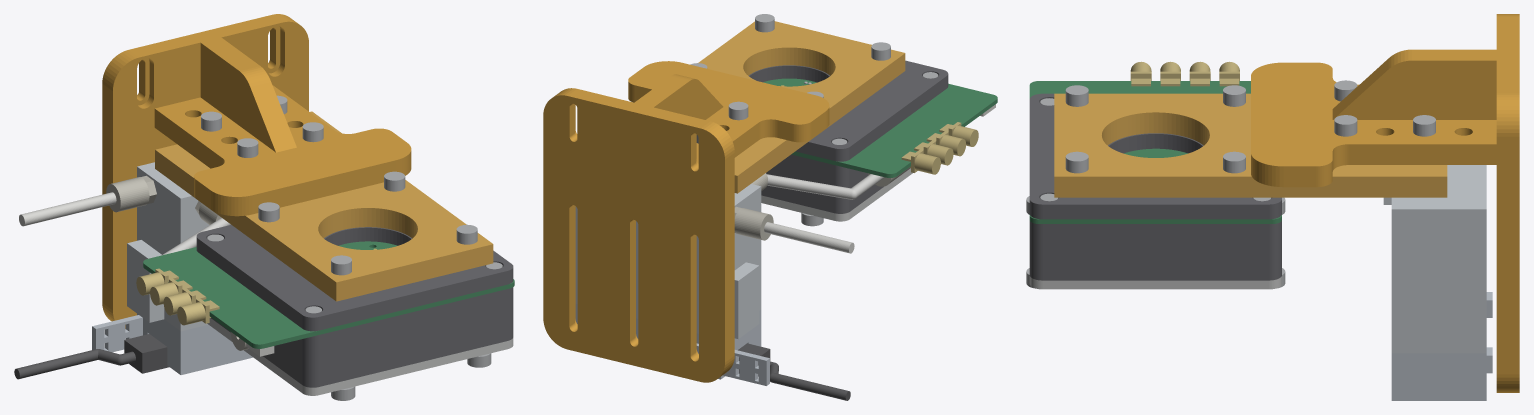
Rendered from v62_min.glb.
3 views of the same model, side by side, from view 1: azimuth 30°, elevation 25°; view 2: azimuth 150°, elevation 25°; view 3: azimuth 270°, elevation 25° (orthographic). The views are drawn at different scales.
Visible parts, largest first — view 1: Grace 2025 앵글 브래킷 "angle bracket for Ramen holder.STEP" (형상 , Grace 새 세로판 60x120x7 (재출력, 레진 가정), Ø4.5 x4 48x48, Ø33, 배기 블록, 셀 몸체 v6.2 Al 6061 흑색 아노다이징 80x77x19 R4 (공동 69x62 깊이 9, 바닥 평평, 뒷판 V62 Al 6061 흑색 아노다이징 80x77x5 R4, M4 Ø4.5 x4, M3 카운터보어 x4,, 뒷면 PCB v6.2 표준 FR-4 1.6: 외곽 X −65…35 x Z ±38.5 R3, 창 Ø16, M4, [배기 블록 v2] 배기 센서 블록 본체 PETG 60x29x48.5 (가스 몸 17.5 + 센서 칸 31,, [배기 블록 v2] 덮개 PETG 60x29x16 (판 2 + Pico 트레이 14): Pico 보스 4, , [배기 블록 v2] USB 케이블 (노트북으로, 타이로 선반에 고정; 노트북은 허치 안 가능), 뚜껑 Al 6061 흑색 아노다이징 (마스킹 없음, 필름 접착면 포함): 판 80x77x3 (Y -12…-9, SMA 엣지 잭 x4 Samtec SMA-J-P-H-ST-EM1 J1–J4 (CH1–CH4; 최소 세트: J, M4x18 렌치볼트 x4 (Grace 판 7 + 뒷판 5 + PCB 1.6 → 몸체 M4 탭, 물림 4.4), M4x16 볼트 + 너트 x4 (판 아래 구멍 ↔ 브래킷 세움판) (+4 smaller); view 2: Grace 2025 앵글 브래킷 "angle bracket for Ramen holder.STEP" (형상 , Grace 새 세로판 60x120x7 (재출력, 레진 가정), Ø4.5 x4 48x48, Ø33, 배기 블록, 뒷판 V62 Al 6061 흑색 아노다이징 80x77x5 R4, M4 Ø4.5 x4, M3 카운터보어 x4,, 뒷면 PCB v6.2 표준 FR-4 1.6: 외곽 X −65…35 x Z ±38.5 R3, 창 Ø16, M4, [배기 블록 v2] 배기 센서 블록 본체 PETG 60x29x48.5 (가스 몸 17.5 + 센서 칸 31,, 셀 몸체 v6.2 Al 6061 흑색 아노다이징 80x77x19 R4 (공동 69x62 깊이 9, 바닥 평평, SMA 엣지 잭 x4 Samtec SMA-J-P-H-ST-EM1 J1–J4 (CH1–CH4; 최소 세트: J, [배기 블록 v2] 덮개 PETG 60x29x16 (판 2 + Pico 트레이 14): Pico 보스 4, , PU 관 Ø4 (셀 출구 엘보 → 배기 블록 v2 입구, 블록이 뒤로 6.6), [배기 블록 v2] USB 케이블 (노트북으로, 타이로 선반에 고정; 노트북은 허치 안 가능), 뚜껑 Al 6061 흑색 아노다이징 (마스킹 없음, 필름 접착면 포함): 판 80x77x3 (Y -12…-9, [배기 블록 v2] 배출 PU 관 Ø4 (토막만 그림, 실제 >= 300 mm) (+2 smaller); view 3: Grace 2025 앵글 브래킷 "angle bracket for Ramen holder.STEP" (형상 , Grace 새 세로판 60x120x7 (재출력, 레진 가정), Ø4.5 x4 48x48, Ø33, 배기 블록, [배기 블록 v2] 배기 센서 블록 본체 PETG 60x29x48.5 (가스 몸 17.5 + 센서 칸 31,, 셀 몸체 v6.2 Al 6061 흑색 아노다이징 80x77x19 R4 (공동 69x62 깊이 9, 바닥 평평, 뒷판 V62 Al 6061 흑색 아노다이징 80x77x5 R4, M4 Ø4.5 x4, M3 카운터보어 x4,, [배기 블록 v2] 덮개 PETG 60x29x16 (판 2 + Pico 트레이 14): Pico 보스 4, , 뒷면 PCB v6.2 표준 FR-4 1.6: 외곽 X −65…35 x Z ±38.5 R3, 창 Ø16, M4, 뚜껑 Al 6061 흑색 아노다이징 (마스킹 없음, 필름 접착면 포함): 판 80x77x3 (Y -12…-9, SMA 엣지 잭 x4 Samtec SMA-J-P-H-ST-EM1 J1–J4 (CH1–CH4; 최소 세트: J, M4x18 렌치볼트 x4 (Grace 판 7 + 뒷판 5 + PCB 1.6 → 몸체 M4 탭, 물림 4.4), M4x16 볼트 + 너트 x4 (판 아래 구멍 ↔ 브래킷 세움판).
Boxes of the visible parts, x1,y1,x2,y2 form: Grace 2025 앵글 브래킷 "angle bracket for Ramen holder.STEP" (형상 : (102,14,411,328); Grace 새 세로판 60x120x7 (재출력, 레진 가정), Ø4.5 x4 48x48, Ø33, 배기 블록: (155,111,493,301); 셀 몸체 v6.2 Al 6061 흑색 아노다이징 80x77x19 R4 (공동 69x62 깊이 9, 바닥 평평: (211,287,513,387); 뒷판 V62 Al 6061 흑색 아노다이징 80x77x5 R4, M4 Ø4.5 x4, M3 카운터보어 x4,: (196,224,513,331); 뒷면 PCB v6.2 표준 FR-4 1.6: 외곽 X −65…35 x Z ±38.5 R3, 창 Ø16, M4: (143,241,514,348); [배기 블록 v2] 배기 센서 블록 본체 PETG 60x29x48.5 (가스 몸 17.5 + 센서 칸 31,: (127,162,209,331); [배기 블록 v2] 덮개 PETG 60x29x16 (판 2 + Pico 트레이 14): Pico 보스 4, : (92,314,252,374); [배기 블록 v2] USB 케이블 (노트북으로, 타이로 선반에 고정; 노트북은 허치 안 가능): (14,334,169,379); 뚜껑 Al 6061 흑색 아노다이징 (마스킹 없음, 필름 접착면 포함): 판 80x77x3 (Y -12…-9: (207,318,513,395); SMA 엣지 잭 x4 Samtec SMA-J-P-H-ST-EM1 J1–J4 (CH1–CH4; 최소 세트: J: (136,268,219,325); M4x18 렌치볼트 x4 (Grace 판 7 + 뒷판 5 + PCB 1.6 → 몸체 M4 탭, 물림 4.4): (258,171,477,275); M4x16 볼트 + 너트 x4 (판 아래 구멍 ↔ 브래킷 세움판): (201,95,323,157); Grace 2025 앵글 브래킷 "angle bracket for Ramen holder.STEP" (형상 : (543,61,829,382); Grace 새 세로판 60x120x7 (재출력, 레진 가정), Ø4.5 x4 48x48, Ø33, 배기 블록: (698,21,905,193); 뒷판 V62 Al 6061 흑색 아노다이징 80x77x5 R4, M4 Ø4.5 x4, M3 카운터보어 x4,: (748,60,948,161); 뒷면 PCB v6.2 표준 FR-4 1.6: 외곽 X −65…35 x Z ±38.5 R3, 창 Ø16, M4: (763,78,997,177); [배기 블록 v2] 배기 센서 블록 본체 PETG 60x29x48.5 (가스 몸 17.5 + 센서 칸 31,: (575,184,761,338); 셀 몸체 v6.2 Al 6061 흑색 아노다이징 80x77x19 R4 (공동 69x62 깊이 9, 바닥 평평: (761,154,883,213); SMA 엣지 잭 x4 Samtec SMA-J-P-H-ST-EM1 J1–J4 (CH1–CH4; 최소 세트: J: (901,122,978,174); [배기 블록 v2] 덮개 PETG 60x29x16 (판 2 + Pico 트레이 14): Pico 보스 4, : (575,304,769,385); PU 관 Ø4 (셀 출구 엘보 → 배기 블록 v2 입구, 블록이 뒤로 6.6): (767,174,883,199); [배기 블록 v2] USB 케이블 (노트북으로, 타이로 선반에 고정; 노트북은 허치 안 가능): (738,343,850,400); 뚜껑 Al 6061 흑색 아노다이징 (마스킹 없음, 필름 접착면 포함): 판 80x77x3 (Y -12…-9: (761,168,912,221); [배기 블록 v2] 배출 PU 관 Ø4 (토막만 그림, 실제 >= 300 mm): (764,222,854,253); Grace 2025 앵글 브래킷 "angle bracket for Ramen holder.STEP" (형상 : (1251,14,1519,392); Grace 새 세로판 60x120x7 (재출력, 레진 가정), Ø4.5 x4 48x48, Ø33, 배기 블록: (1054,93,1447,197); [배기 블록 v2] 배기 센서 블록 본체 PETG 60x29x48.5 (가스 몸 17.5 + 센서 칸 31,: (1383,165,1486,353); 셀 몸체 v6.2 Al 6061 흑색 아노다이징 80x77x19 R4 (공동 69x62 깊이 9, 바닥 평평: (1029,221,1281,280); 뒷판 V62 Al 6061 흑색 아노다이징 80x77x5 R4, M4 Ø4.5 x4, M3 카운터보어 x4,: (1029,93,1281,219); [배기 블록 v2] 덮개 PETG 60x29x16 (판 2 + Pico 트레이 14): Pico 보스 4, : (1391,292,1492,400); 뒷면 PCB v6.2 표준 FR-4 1.6: 외곽 X −65…35 x Z ±38.5 R3, 창 Ø16, M4: (1029,81,1281,223); 뚜껑 Al 6061 흑색 아노다이징 (마스킹 없음, 필름 접착면 포함): 판 80x77x3 (Y -12…-9: (1029,276,1281,289); SMA 엣지 잭 x4 Samtec SMA-J-P-H-ST-EM1 J1–J4 (CH1–CH4; 최소 세트: J: (1130,61,1239,86); M4x18 렌치볼트 x4 (Grace 판 7 + 뒷판 5 + PCB 1.6 → 몸체 M4 탭, 물림 4.4): (1065,85,1245,173); M4x16 볼트 + 너트 x4 (판 아래 구멍 ↔ 브래킷 세움판): (1334,80,1435,136).
Bounding box in the file's own units: 117 × 104 × 150.
